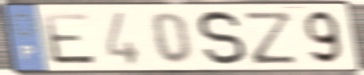0: (148, 10, 197, 66)
4: (104, 9, 143, 68)
9: (299, 8, 346, 66)
E: (39, 11, 100, 66)
S: (194, 8, 250, 68)
Z: (241, 10, 301, 67)
